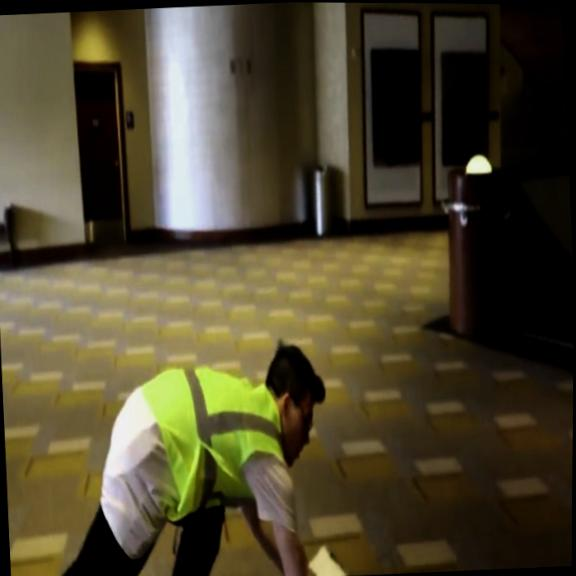safety_vest: (139, 359, 292, 523)
